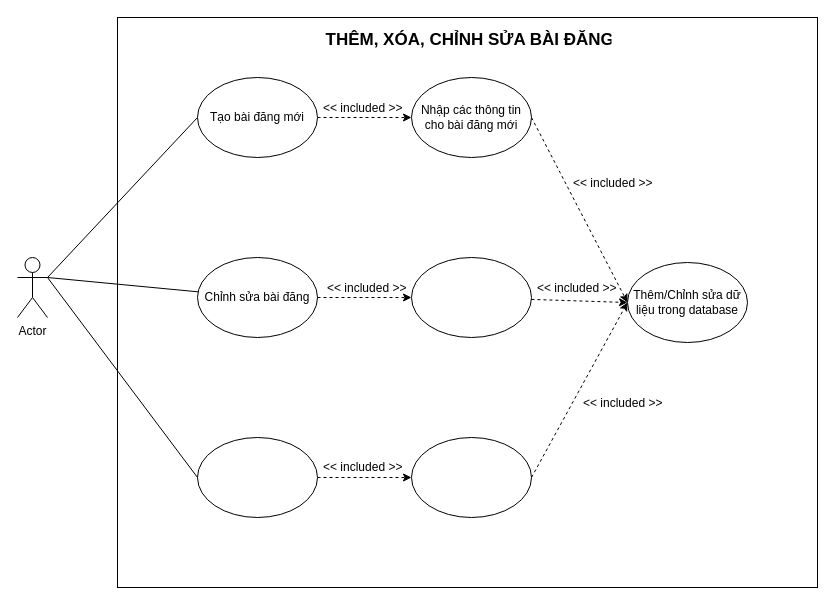
The diagram is 835 pixels wide and 605 high, and some of its shapes have lost their labels. Here are the shapes that lost their labels. From the top down, the centre of each, then its label:
At point 471,297: "Thay đổi các thông tin".
At point 257,477: "Xóa/Ẩn bài đăng".
At point 471,477: "Bài đăng chuyển sang trạng thái bị xóa hoặc ẩn".
